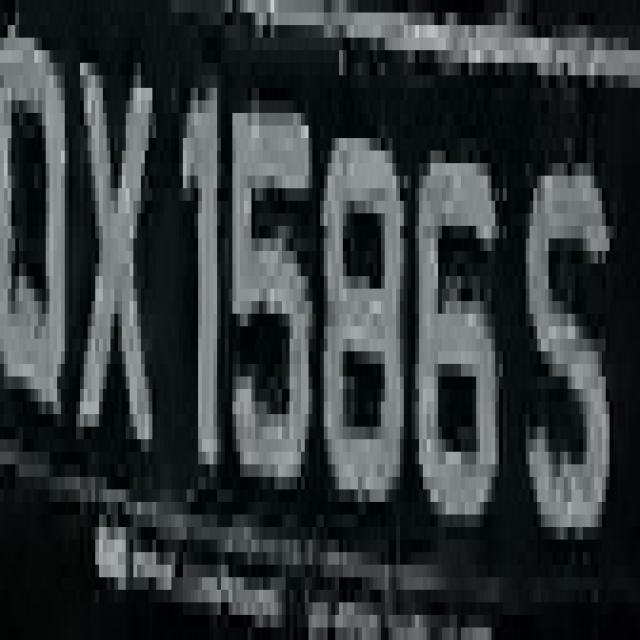1: (186, 62, 228, 514)
5: (229, 76, 316, 514)
6: (408, 88, 502, 552)
8: (324, 113, 411, 540)
Q: (4, 25, 68, 452)
S: (511, 151, 614, 552)
X: (69, 38, 160, 464)
